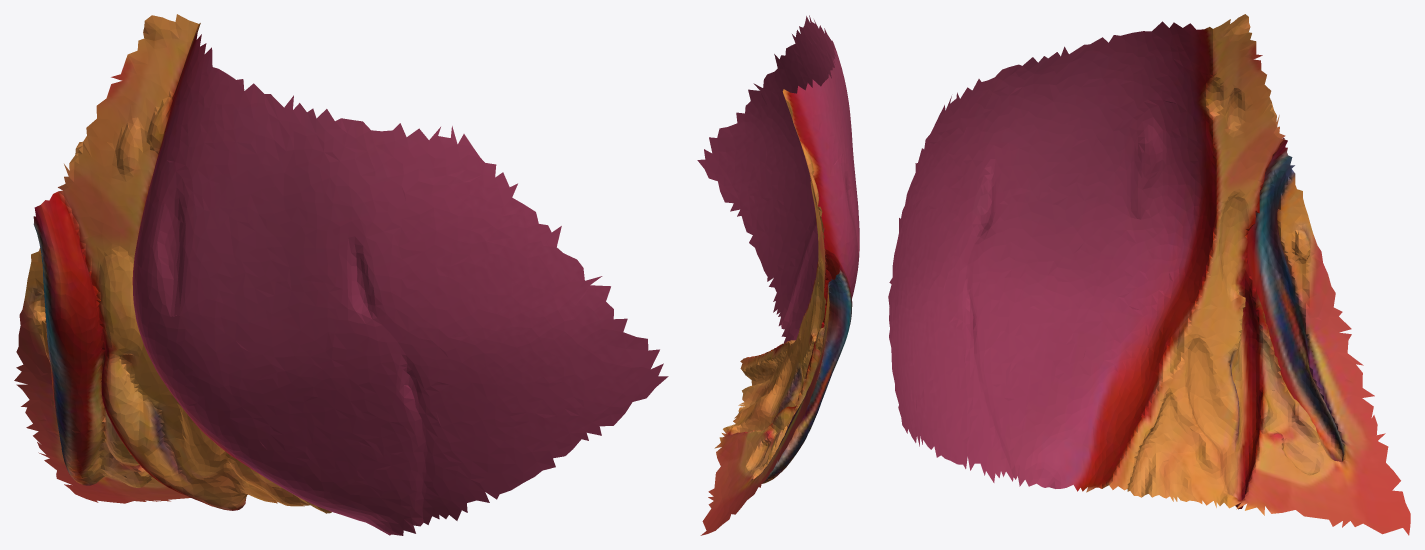
The picture shows the model from 3 angles, left to right: view 1: azimuth 30°, elevation 25°; view 2: azimuth 150°, elevation 25°; view 3: azimuth 270°, elevation 25°; orthographic projection. The views are drawn at different scales.
Parts seen in each view (by area): view 1: tripo_mesh_045d8eb0-72ec-4624-9759-a425f321d17a; view 2: tripo_mesh_045d8eb0-72ec-4624-9759-a425f321d17a; view 3: tripo_mesh_045d8eb0-72ec-4624-9759-a425f321d17a.
Boxes of the visible parts, x1=… form: tripo_mesh_045d8eb0-72ec-4624-9759-a425f321d17a: x1=14, y1=14, x2=668, y2=535; tripo_mesh_045d8eb0-72ec-4624-9759-a425f321d17a: x1=697, y1=15, x2=859, y2=535; tripo_mesh_045d8eb0-72ec-4624-9759-a425f321d17a: x1=888, y1=14, x2=1410, y2=535.
Size of the model in its own units: 0.2514 by 0.3228 by 0.3009.
1 material, 1 textured.
